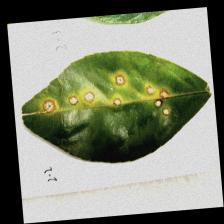canker: (24, 58, 176, 133)
